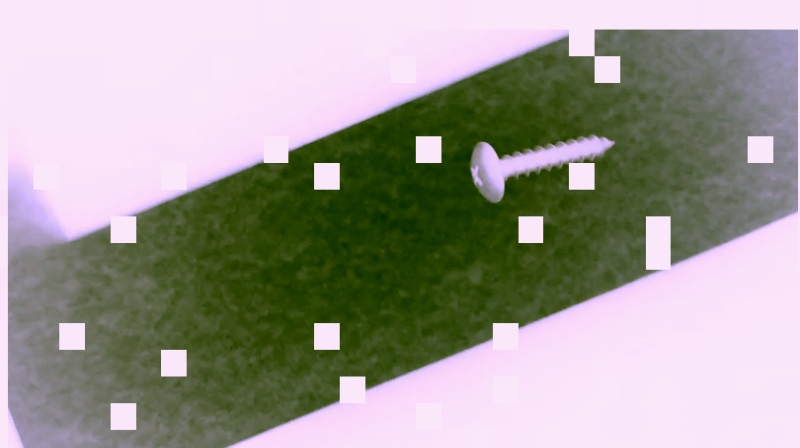S003: (465, 130, 618, 207)
